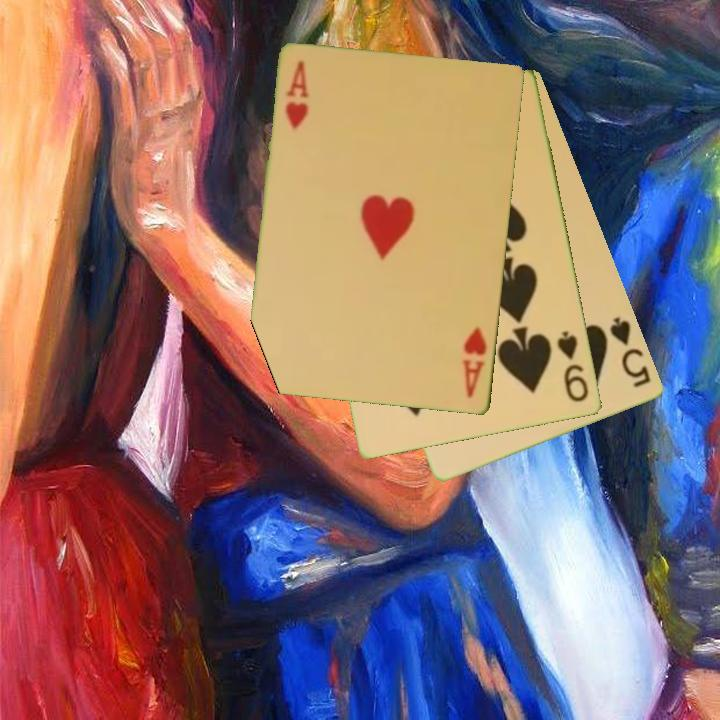5s: (607, 313, 655, 391)
9s: (554, 328, 592, 406)
Ah: (459, 324, 490, 401), (282, 57, 312, 133)
